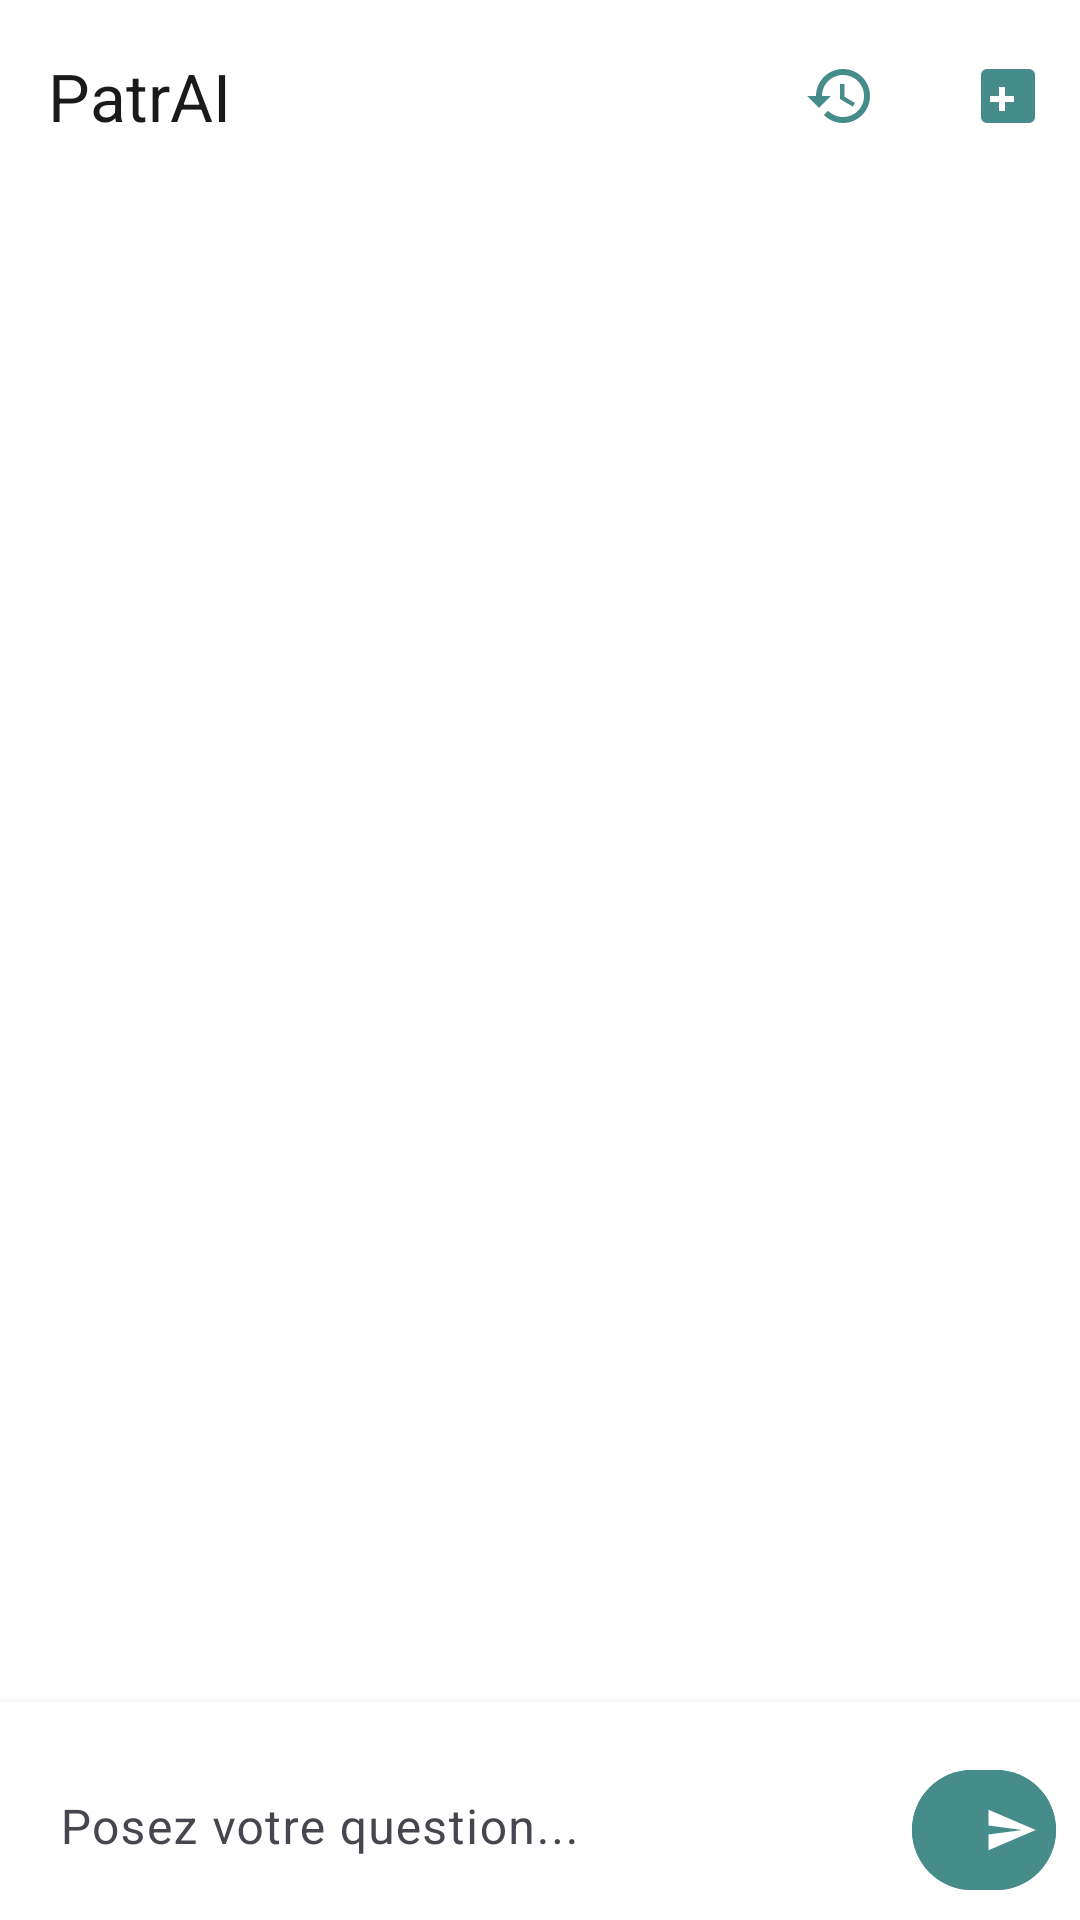

Screen size 1080x1920. Icon name, then its box in pixels as (x1, y1, x2, y2):
History: (807, 69, 870, 123)
New Page: (981, 69, 1035, 123)
Send: (912, 1770, 1056, 1890)
